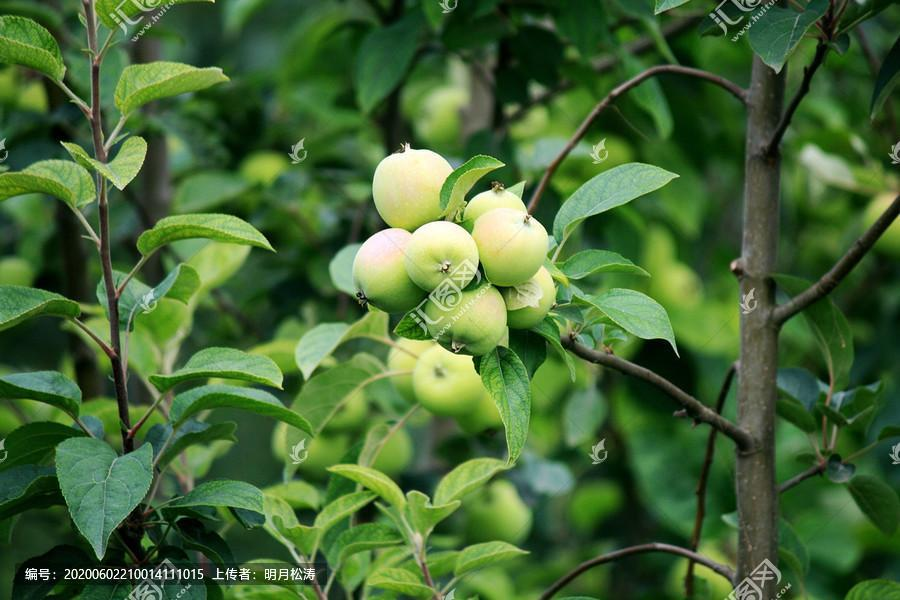apple: (369, 147, 452, 232), (424, 285, 510, 358), (407, 219, 485, 294), (473, 207, 546, 284), (354, 227, 417, 313)
